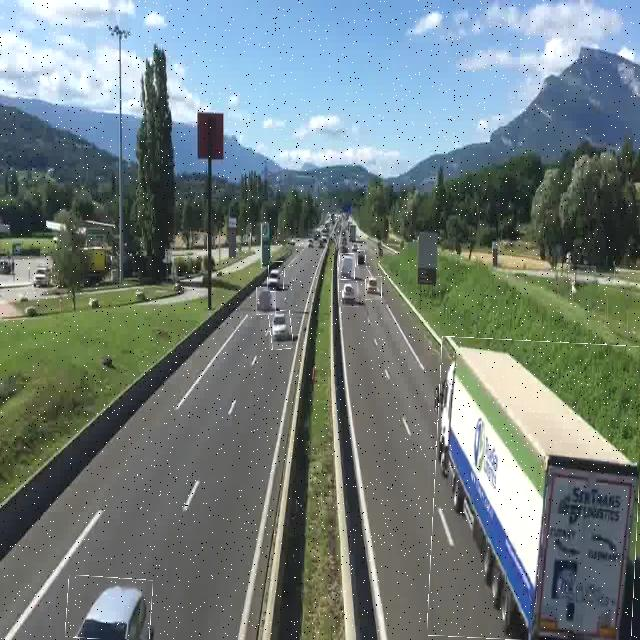Car: (66, 576, 151, 640), (269, 311, 292, 349), (256, 287, 276, 315), (268, 262, 284, 292), (340, 283, 360, 307), (366, 276, 382, 300), (358, 250, 366, 269)
Truck: (431, 338, 640, 640), (339, 253, 355, 280)
